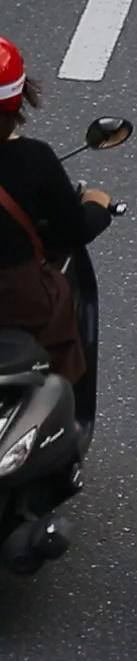helmet: (0, 31, 27, 148)
